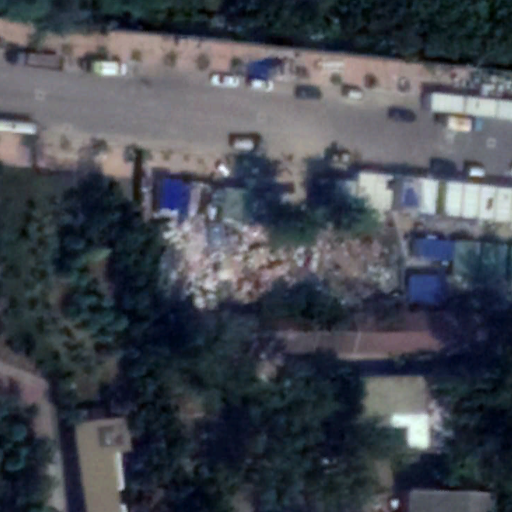msw: (161, 210, 401, 310)
